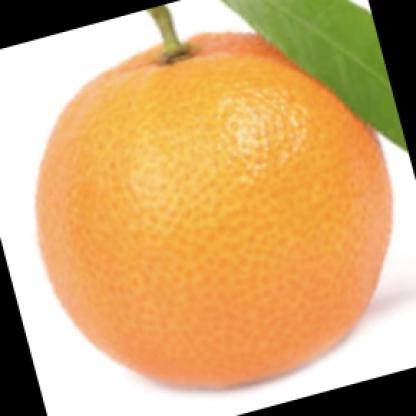fresh: (43, 35, 393, 391)
